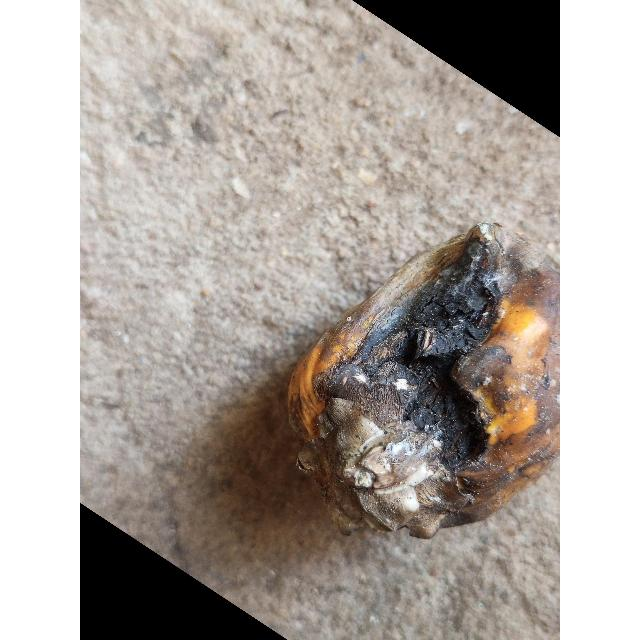damaged: (284, 227, 560, 540)
